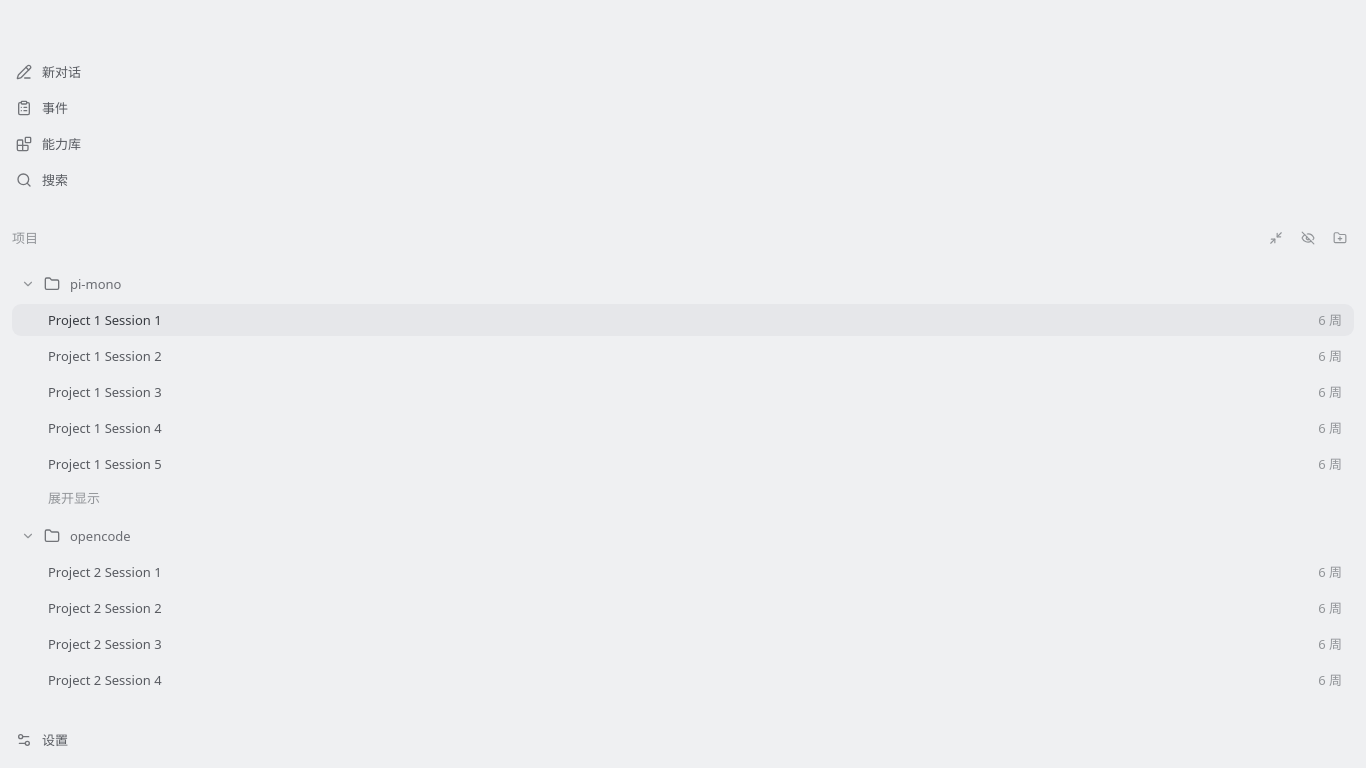
Test: SessionList UI › keeps session quantity expansion scoped to a single project
Check: the text "Project 1 Session 6" is not shown
Click the button "展开显示".
click(74, 498)  # box [48,484,100,512]
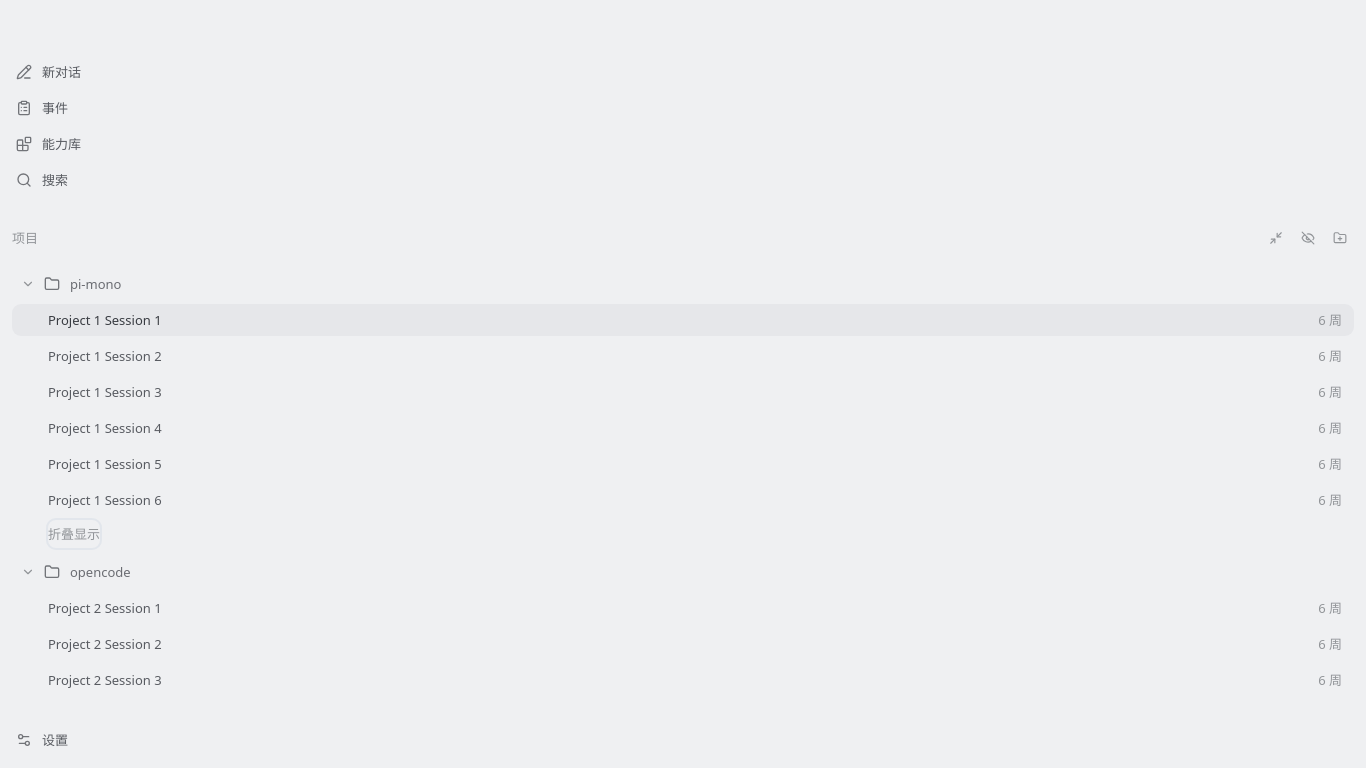
Check: the text "Project 1 Session 6" is shown, box [48,491,162,509]
Click the button named "折叠项目 pi-mono".
click(28, 284)  # box [16,272,40,296]
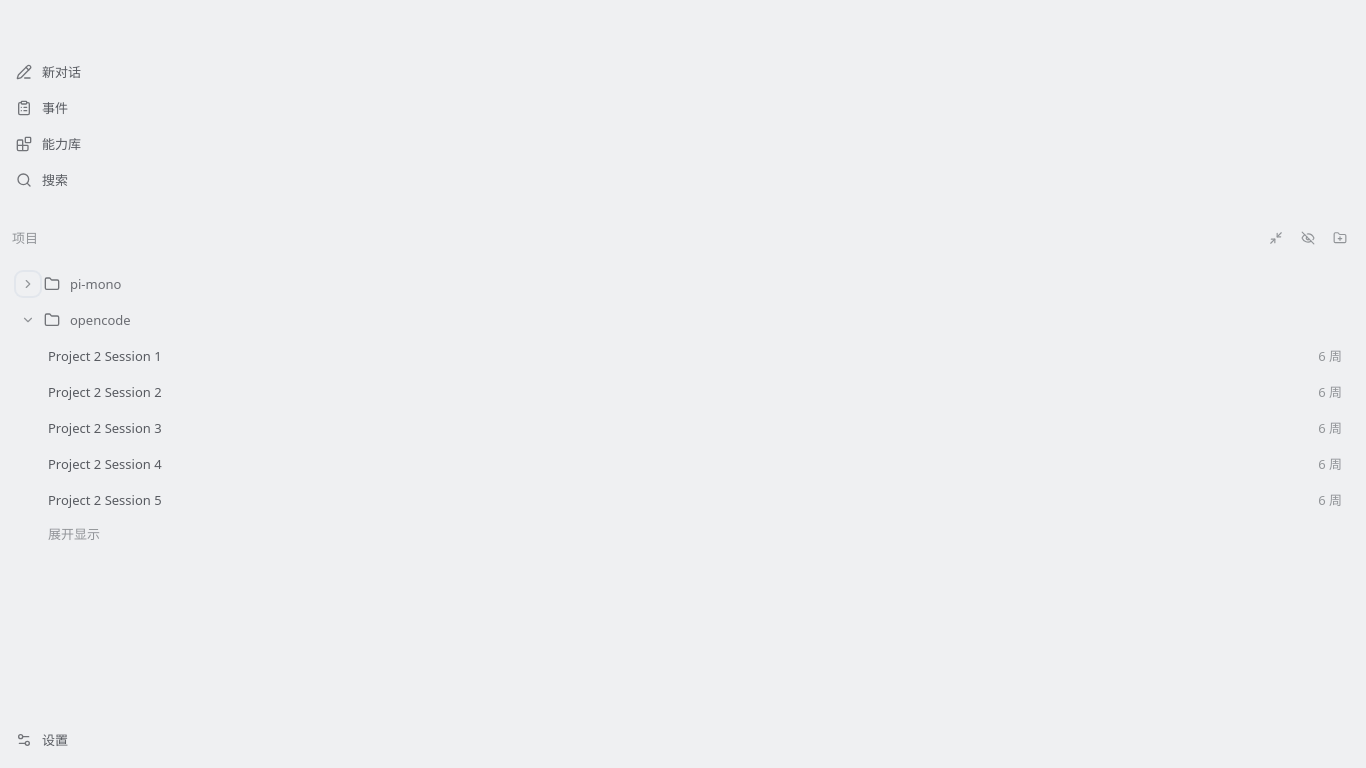
Check: the button "Project 1 Session 6" is gone
Click the button named "展开项目 pi-mono".
click(28, 284)  # box [16,272,40,296]
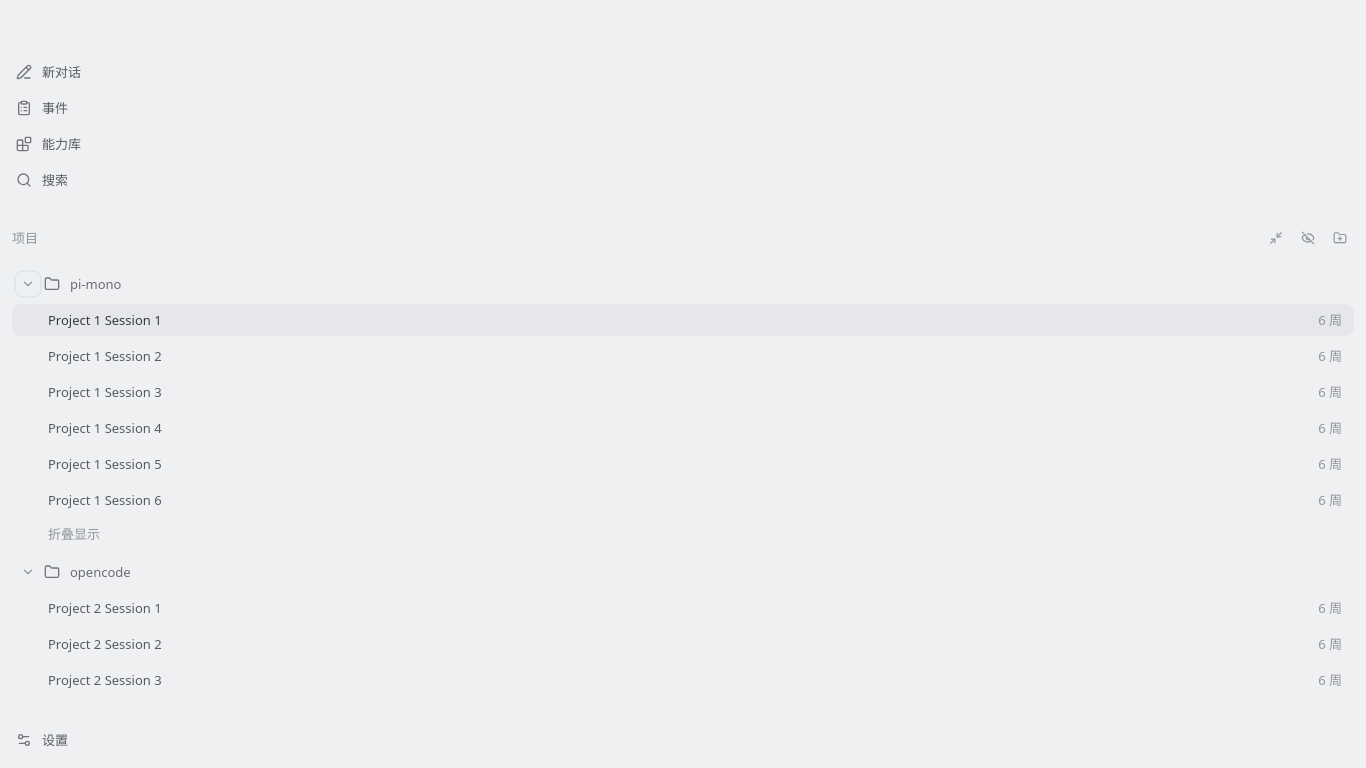
Check: the text "Project 1 Session 6" is shown, box [48,491,162,509]
